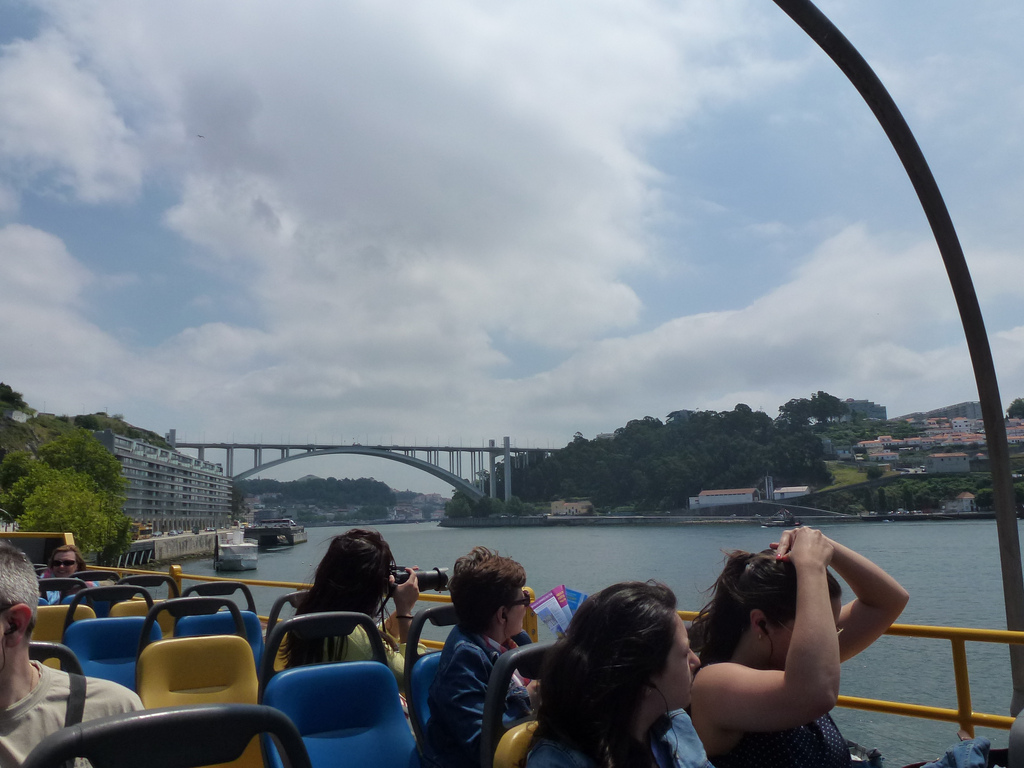arrabida: (160, 429, 561, 516)
